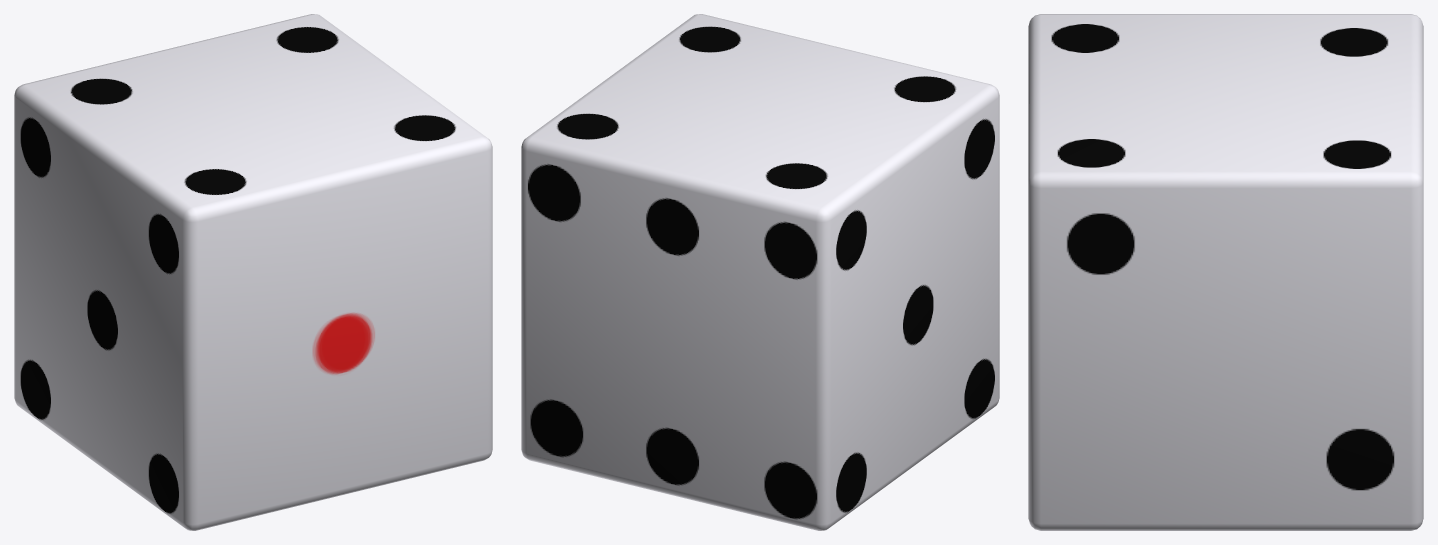
The model's file is dice.glb.
The picture shows the model from 3 angles, left to right: view 1: azimuth 30°, elevation 25°; view 2: azimuth 150°, elevation 25°; view 3: azimuth 270°, elevation 25°; orthographic projection. The views are drawn at different scales.
Parts seen in each view (by area): view 1: Cube; view 2: Cube; view 3: Cube.
Part boxes in pixels (x1=…): Cube: x1=14, y1=14, x2=492, y2=530; Cube: x1=521, y1=14, x2=999, y2=530; Cube: x1=1028, y1=14, x2=1423, y2=530.
Size of the model in its own units: 1.5 by 1.5 by 1.5.
1 material, 1 textured.
